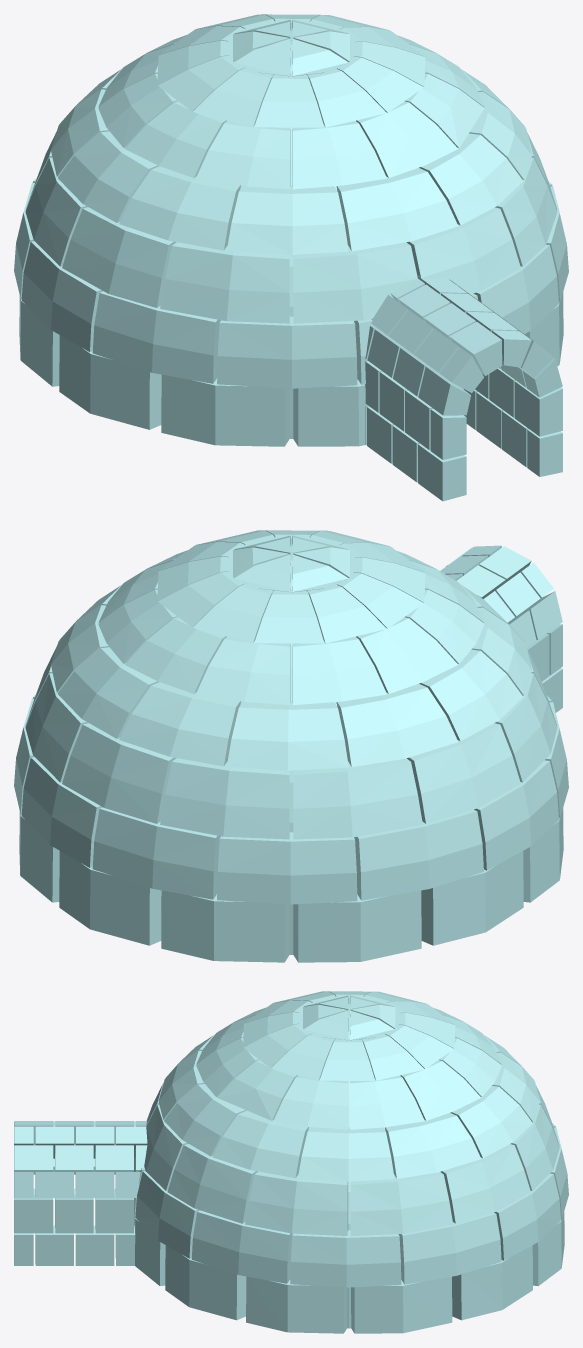
Rendered from d-ad5gtnq8Z.glb.
3 renders of one model, top to bottom at view 1: azimuth 30°, elevation 25°; view 2: azimuth 150°, elevation 25°; view 3: azimuth 270°, elevation 25°, orthographic. The views are drawn at different scales.
Parts seen in each view (by area): view 1: Node; view 2: Node; view 3: Node.
Part boxes in pixels (box(x1,y1,x2,y2)): Node: box(14, 14, 568, 501); Node: box(14, 530, 568, 962); Node: box(14, 991, 568, 1333).
Size of the model in its own units: 1.71 by 0.9999 by 2.16.
